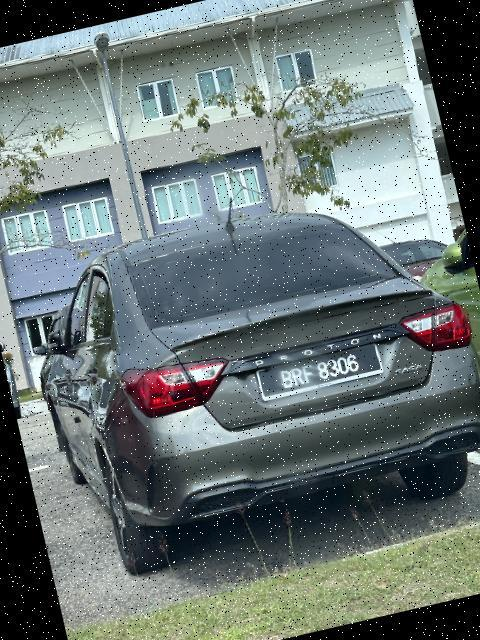BRF8306: (255, 345, 384, 401)
License_Plate: (255, 345, 384, 401)
car: (16, 164, 480, 582)
